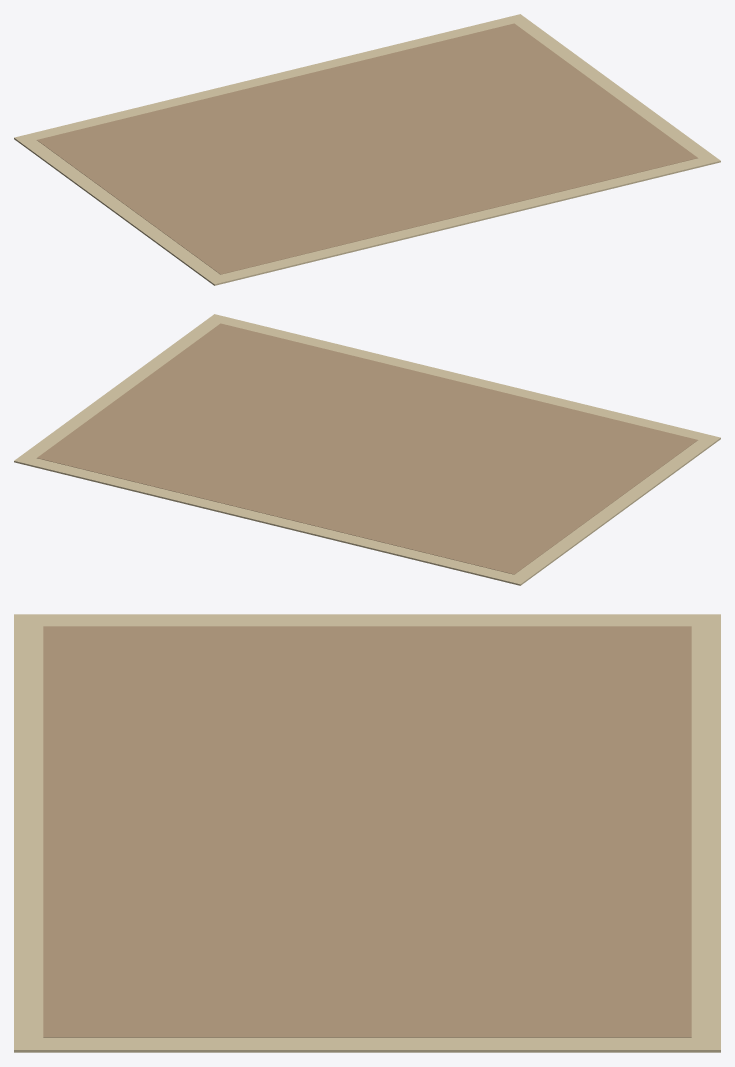
File: rug_large.glb
3 views of the same model, one above another, from view 1: azimuth 30°, elevation 25°; view 2: azimuth 150°, elevation 25°; view 3: azimuth 270°, elevation 25° (orthographic). The views are drawn at different scales.
Parts seen in each view (by area): view 1: rug_large; view 2: rug_large; view 3: rug_large.
Boxes of the visible parts, x1,y1,x2,y2 form: rug_large: (14,14,720,285); rug_large: (14,314,720,585); rug_large: (14,614,720,1052).
Size of the model in its own units: 3.5 by 0.012 by 2.4.
